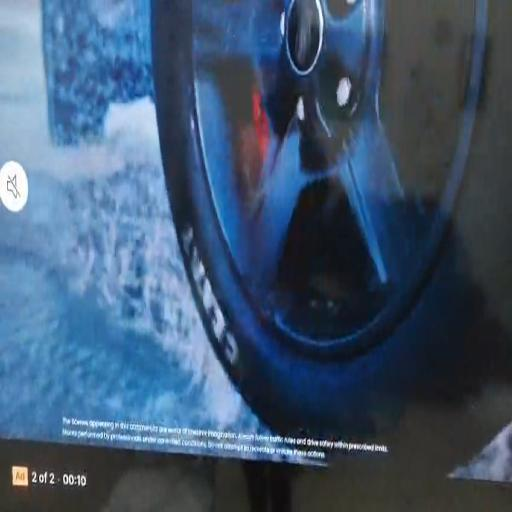ad label: (10, 462, 28, 490)
